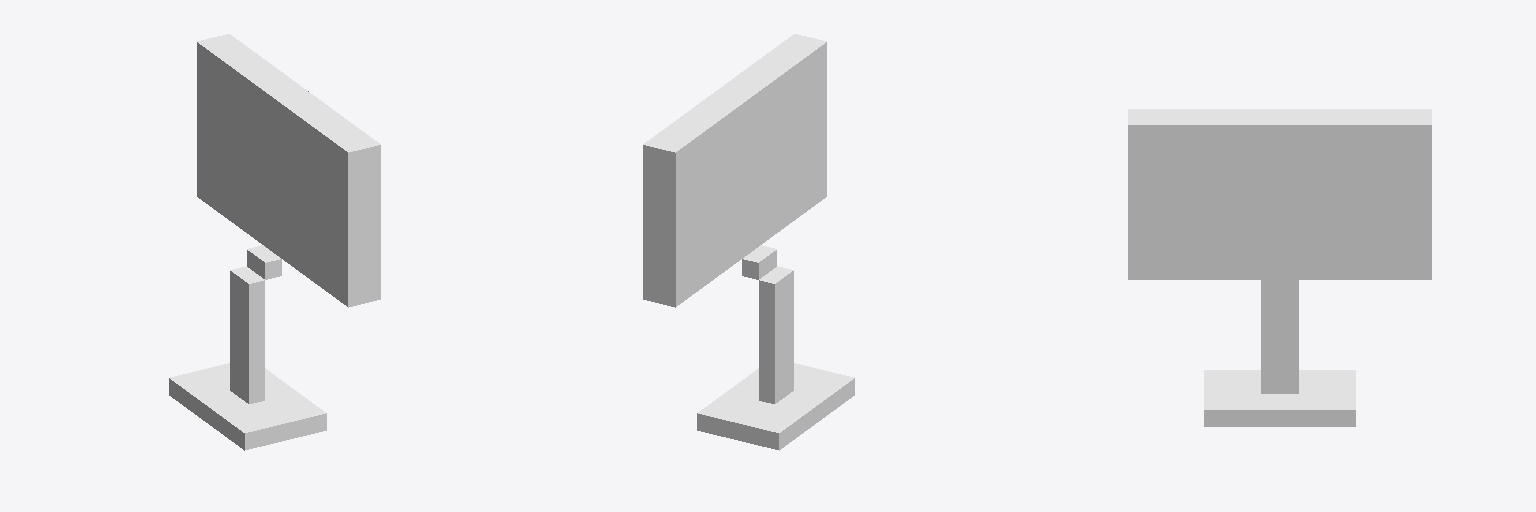
Rendered from PCmonita2.obj.
The picture shows the model from 3 angles: view 1: azimuth 30°, elevation 25°; view 2: azimuth 150°, elevation 25°; view 3: azimuth 270°, elevation 25°; orthographic projection.
Visible parts, largest first — view 1: object 1; view 2: object 1; view 3: object 1.
Part boxes in pixels (bbox=[...]): object 1: bbox=[169, 34, 380, 450]; object 1: bbox=[643, 34, 854, 450]; object 1: bbox=[1128, 109, 1431, 426].
Size of the model in its own units: 0.6 by 1.8 by 1.6.